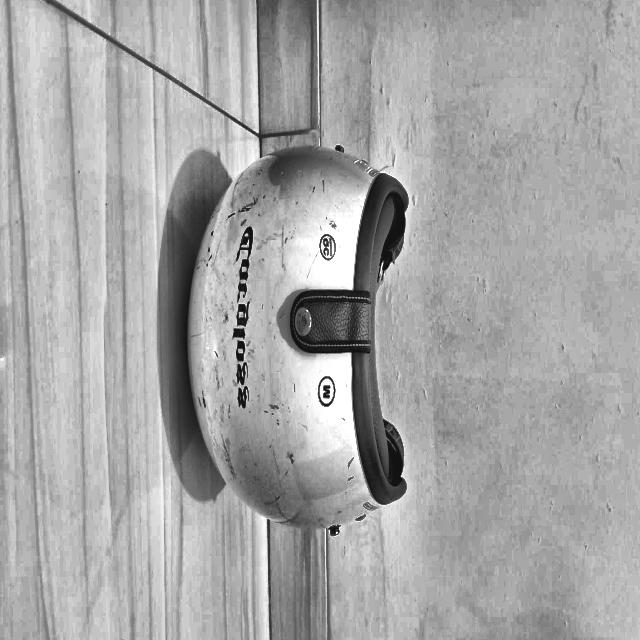Helmet: (331, 385, 584, 640)
